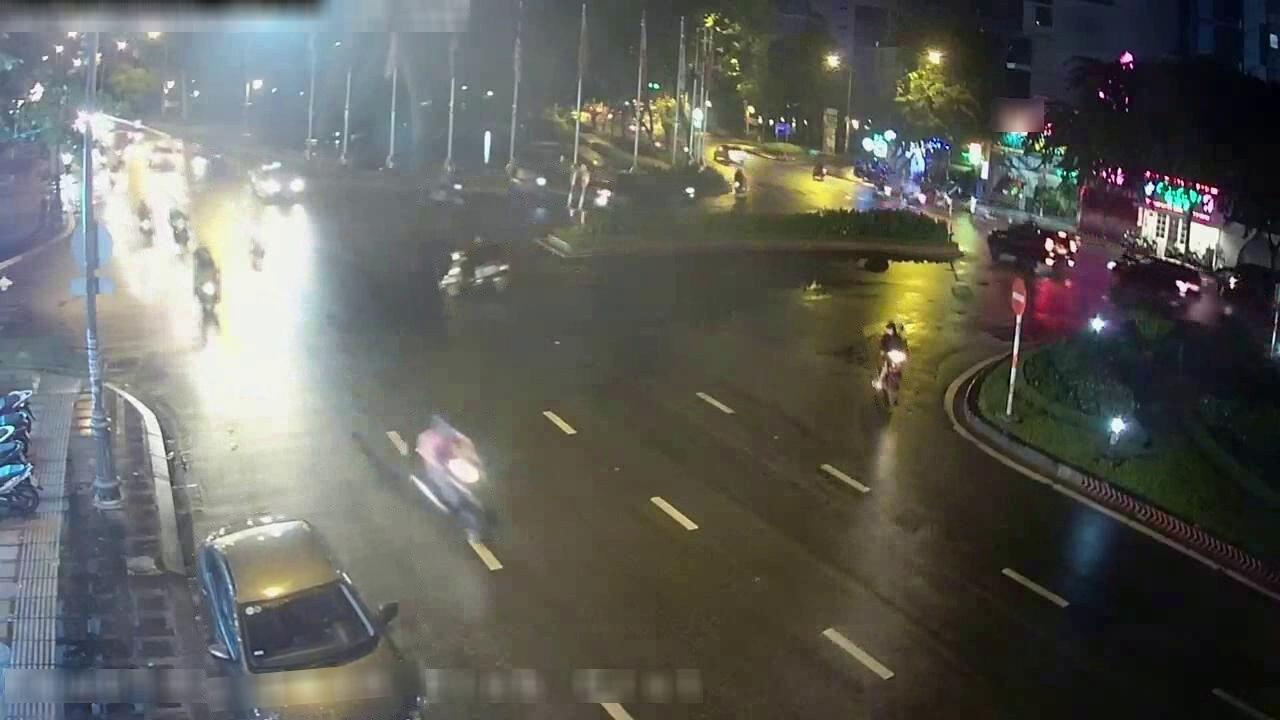Car: (197, 515, 385, 673), (508, 165, 613, 208), (439, 240, 510, 297), (249, 161, 305, 203), (425, 177, 467, 208), (147, 140, 182, 171)
Motorcycle: (413, 415, 492, 541), (0, 463, 39, 514), (0, 388, 33, 433), (0, 411, 32, 453), (0, 441, 27, 466)
Motorcyclist: (872, 321, 909, 407), (193, 246, 221, 319), (168, 207, 191, 252), (187, 149, 211, 189), (248, 223, 266, 270), (136, 200, 154, 246), (104, 158, 124, 194)
Sign: (1010, 276, 1027, 316)
